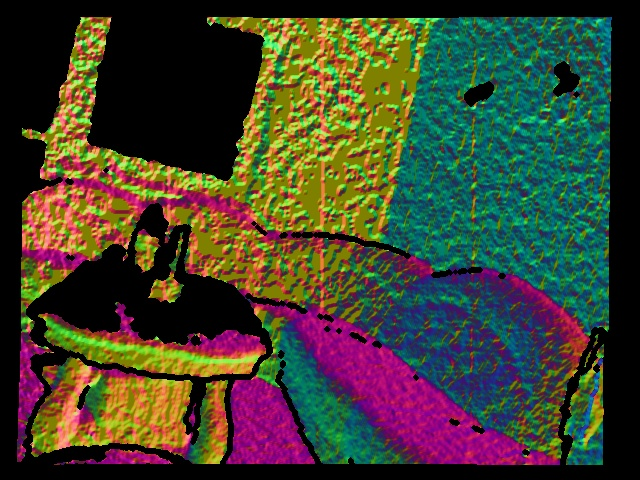station: (148, 224, 185, 306)
